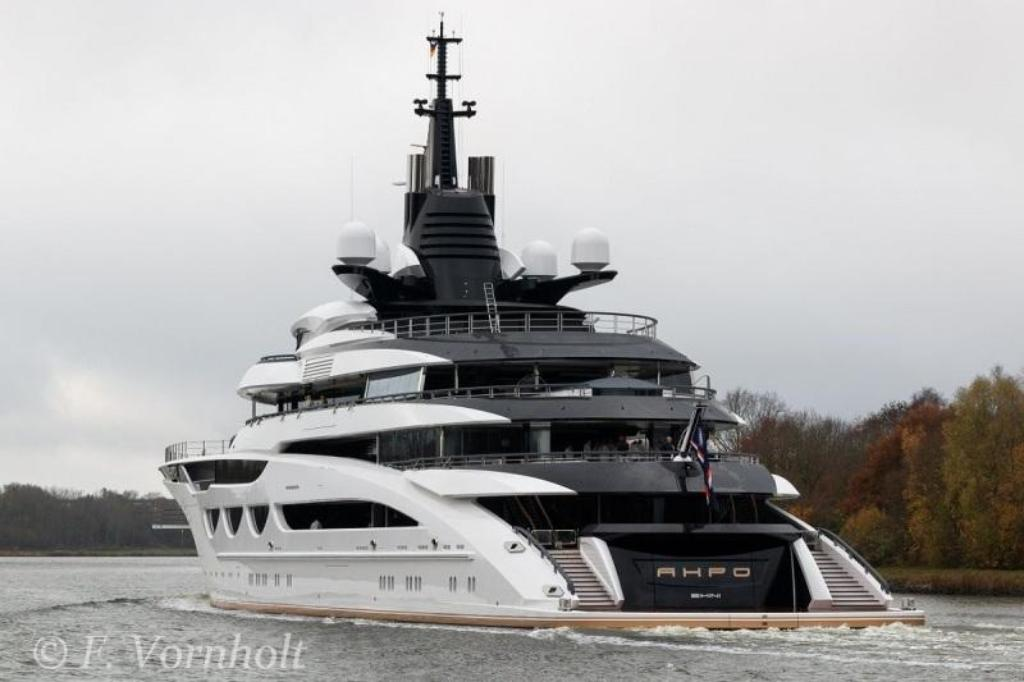PassengerShip: (149, 11, 927, 626)
